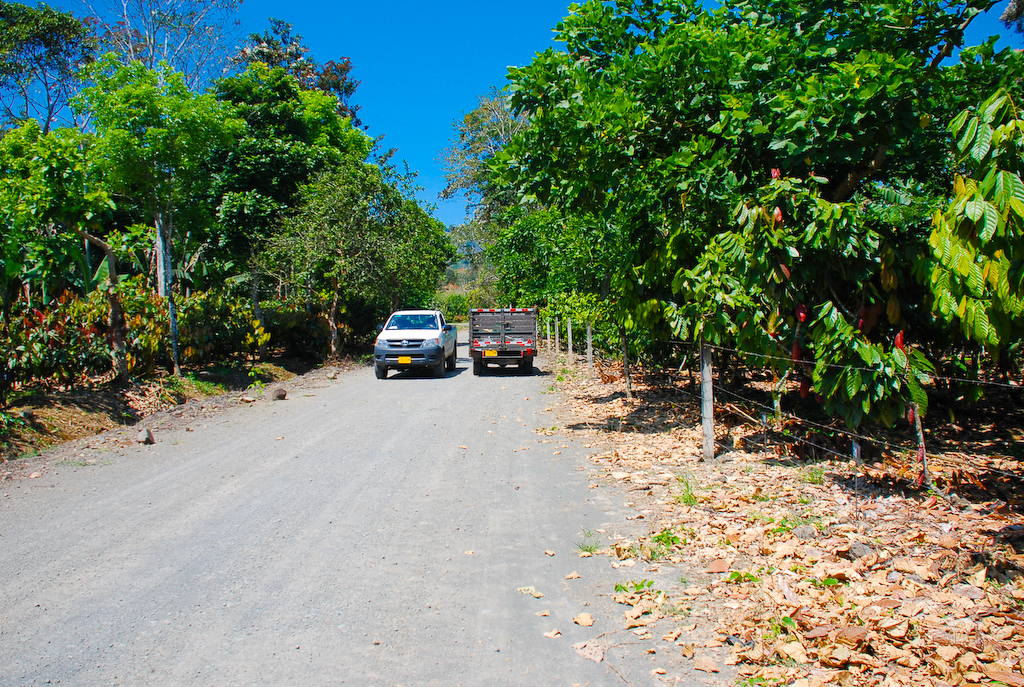Car: (368, 306, 456, 379)
